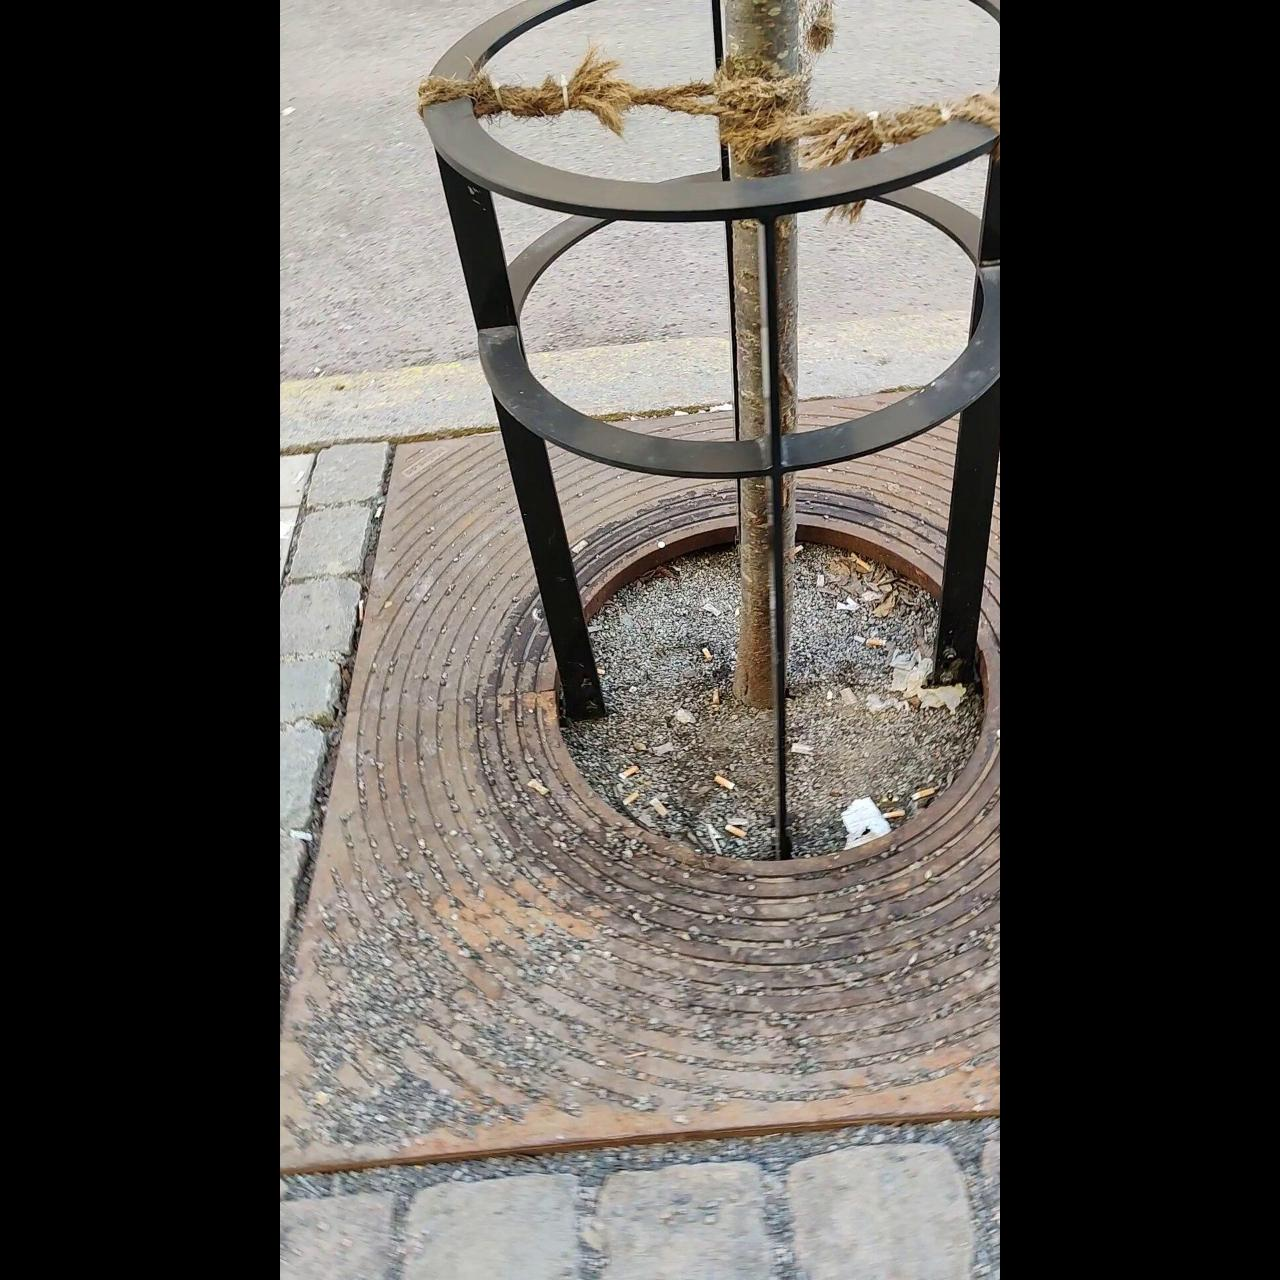cigarettes_butts: (724, 822, 744, 838), (912, 788, 934, 802), (715, 775, 735, 790), (864, 633, 884, 647), (620, 767, 636, 779), (653, 798, 665, 816), (856, 556, 869, 571), (701, 646, 713, 662), (885, 810, 904, 819), (358, 599, 365, 624), (791, 546, 806, 556), (625, 790, 635, 802)
others: (568, 536, 592, 552), (288, 828, 313, 840), (527, 779, 549, 794), (792, 742, 812, 755), (702, 602, 722, 615), (374, 502, 381, 524)
